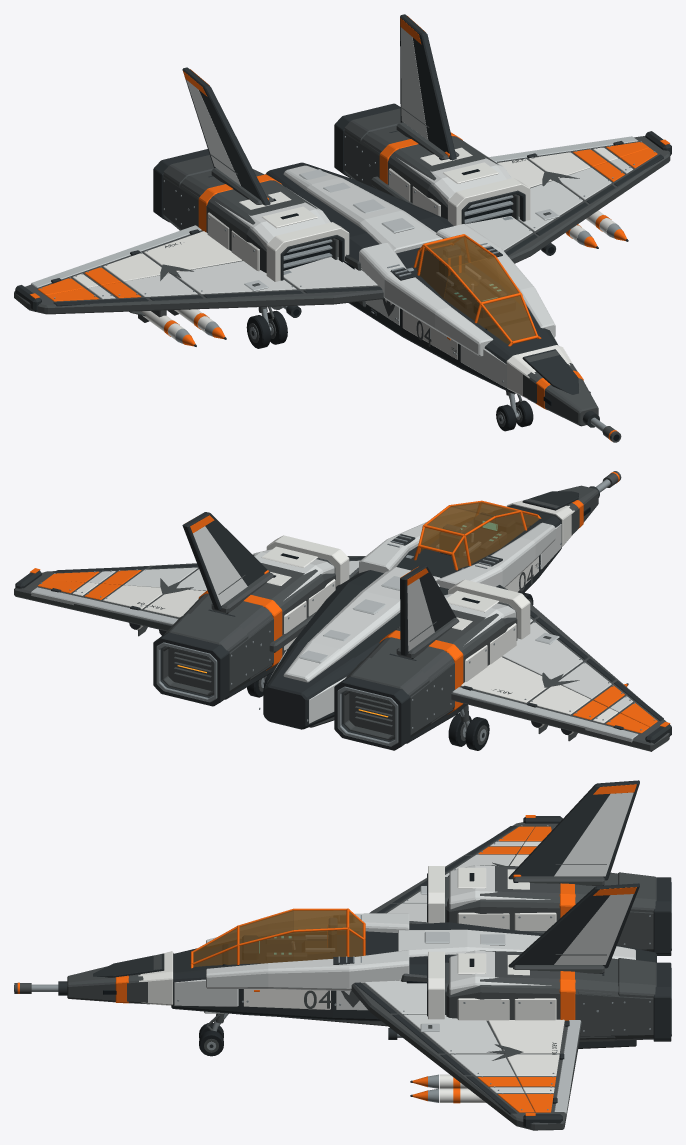
File: 04_ARX4_Kestrel_Modular.glb
3 renders of one model, top to bottom at view 1: azimuth 30°, elevation 25°; view 2: azimuth 150°, elevation 25°; view 3: azimuth 270°, elevation 25°, orthographic. The views are drawn at different scales.
Parts seen in each view (by area): view 1: 01_Fuselage_Core, 07_Wing_L, 09_Engine_L, 09_Engine_R, 07_Wing_R, 06_Canopy_Glass, 11_Tail_Fin_R, 02_Nose_Armor, 11_Tail_Fin_L, 04_Cockpit_Interior, 05_Canopy_Frame, 08_Aileron_L (+7 smaller); view 2: 01_Fuselage_Core, 09_Engine_L, 09_Engine_R, 07_Wing_L, 07_Wing_R, 11_Tail_Fin_R, 06_Canopy_Glass, 10_Thruster_R, 10_Thruster_L, 11_Tail_Fin_L, 02_Nose_Armor, 08_Aileron_L (+4 smaller); view 3: 01_Fuselage_Core, 09_Engine_R, 07_Wing_R, 09_Engine_L, 11_Tail_Fin_L, 06_Canopy_Glass, 11_Tail_Fin_R, 02_Nose_Armor, 07_Wing_L, 04_Cockpit_Interior, 05_Canopy_Frame, 10_Thruster_R (+6 smaller).
Part boxes in pixels (left/top/right/bottom): 01_Fuselage_Core: left=265, top=162, right=558, bottom=393; 07_Wing_L: left=14, top=226, right=384, bottom=314; 09_Engine_L: left=163, top=155, right=349, bottom=281; 09_Engine_R: left=344, top=108, right=530, bottom=225; 07_Wing_R: left=371, top=131, right=671, bottom=263; 06_Canopy_Glass: left=415, top=236, right=535, bottom=344; 11_Tail_Fin_R: left=396, top=14, right=459, bottom=160; 02_Nose_Armor: left=506, top=345, right=598, bottom=426; 11_Tail_Fin_L: left=182, top=67, right=273, bottom=205; 04_Cockpit_Interior: left=436, top=245, right=528, bottom=330; 05_Canopy_Frame: left=407, top=234, right=541, bottom=346; 08_Aileron_L: left=31, top=225, right=201, bottom=287; 01_Fuselage_Core: left=259, top=506, right=561, bottom=729; 09_Engine_L: left=345, top=579, right=530, bottom=743; 09_Engine_R: left=164, top=535, right=349, bottom=699; 07_Wing_L: left=451, top=585, right=671, bottom=751; 07_Wing_R: left=14, top=556, right=365, bottom=652; 11_Tail_Fin_R: left=182, top=512, right=273, bottom=613; 06_Canopy_Glass: left=418, top=501, right=538, bottom=568; 10_Thruster_R: left=153, top=632, right=229, bottom=706; 10_Thruster_L: left=334, top=676, right=410, bottom=750; 11_Tail_Fin_L: left=396, top=564, right=459, bottom=659; 02_Nose_Armor: left=506, top=485, right=598, bottom=546; 08_Aileron_L: left=453, top=685, right=638, bottom=742; 01_Fuselage_Core: left=171, top=913, right=656, bottom=1026; 09_Engine_R: left=427, top=950, right=656, bottom=1048; 07_Wing_R: left=351, top=980, right=581, bottom=1130; 09_Engine_L: left=427, top=865, right=656, bottom=951; 11_Tail_Fin_L: left=508, top=780, right=639, bottom=885; 06_Canopy_Glass: left=193, top=910, right=362, bottom=967; 11_Tail_Fin_R: left=508, top=883, right=639, bottom=973; 02_Nose_Armor: left=67, top=951, right=173, bottom=1005; 07_Wing_L: left=369, top=815, right=562, bottom=933; 04_Cockpit_Interior: left=222, top=918, right=337, bottom=965; 05_Canopy_Frame: left=190, top=908, right=365, bottom=968; 10_Thruster_R: left=653, top=962, right=671, bottom=1041.
Size of the model in its own units: 15.52 by 5.2 by 14.23.
